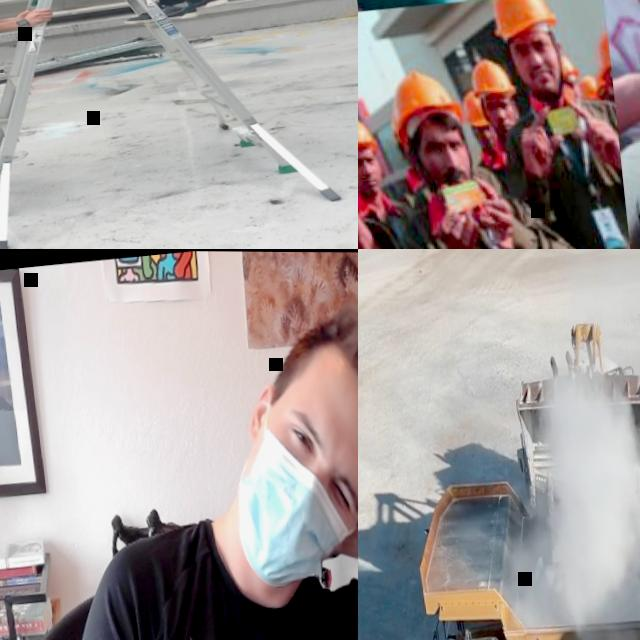Hardhat: (321, 306, 358, 492), (386, 64, 462, 132), (484, 0, 558, 38), (469, 56, 522, 97), (460, 93, 490, 129), (358, 114, 381, 154), (593, 30, 613, 73), (576, 72, 604, 98), (562, 54, 576, 82)
Mask: (224, 392, 358, 592)
NO-Mask: (518, 60, 560, 97), (425, 161, 470, 192), (358, 170, 382, 194), (492, 117, 516, 137), (479, 138, 498, 153)
NO-Safety Vest: (110, 504, 358, 640), (526, 93, 634, 249), (426, 192, 585, 249), (603, 0, 640, 136), (358, 196, 418, 249), (479, 149, 510, 191)
Person: (9, 289, 358, 640), (393, 47, 608, 249), (506, 0, 640, 249), (358, 4, 453, 249), (0, 0, 73, 226), (358, 110, 432, 249), (462, 94, 514, 193), (474, 56, 521, 151), (388, 114, 423, 196), (586, 30, 612, 110), (576, 68, 598, 107)
vehicle: (385, 442, 640, 640), (496, 304, 640, 523)
